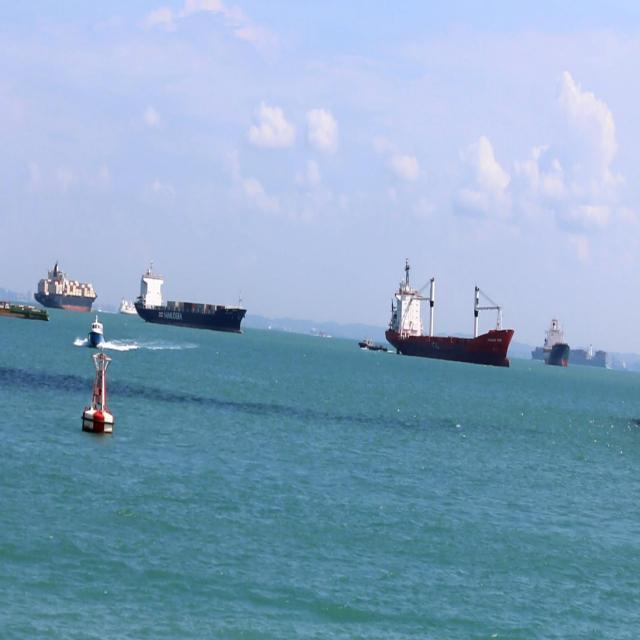CIV_Ship: (384, 256, 516, 370), (134, 262, 248, 336), (33, 258, 98, 314), (80, 349, 116, 435), (530, 344, 608, 369), (542, 314, 571, 369), (0, 299, 49, 323), (86, 315, 106, 348), (358, 334, 388, 353), (119, 298, 138, 316)
